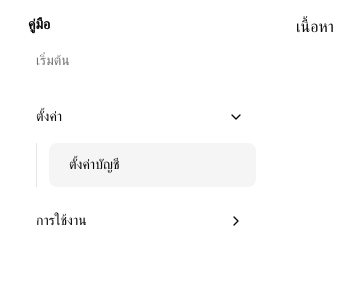
Test: reader navigation › opens the active child section and preserves other expanded sections
Click the button "การใช้งาน": point(136, 221) x1=16 y1=199 x2=256 y2=243
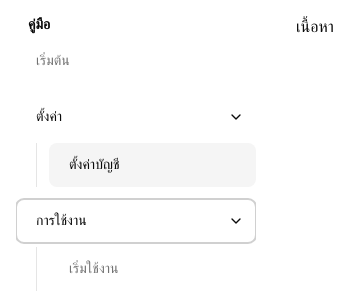
Expected: the button "การใช้งาน" is expanded, x1=16 y1=199 x2=256 y2=243
Click the button "ตั้งค่า": point(136, 117) x1=16 y1=95 x2=256 y2=139
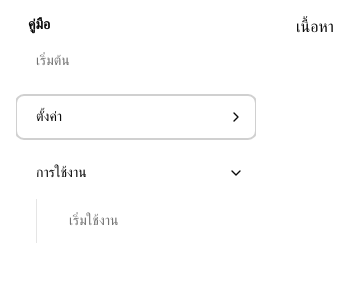
Expected: the button "ตั้งค่า" is collapsed, x1=16 y1=95 x2=256 y2=139
Expected: the link "ตั้งค่าบัญชี" is gone
